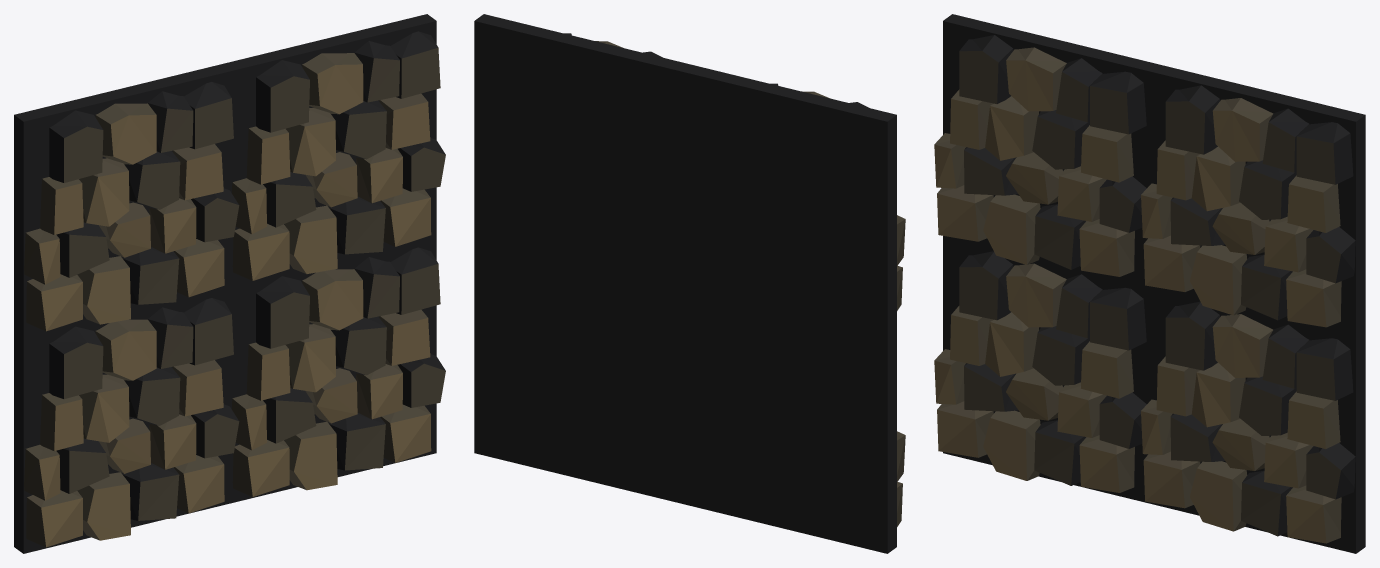
The model's file is ruins_cv_wall_b.obj.
3 views of the same model, side by side, from view 1: azimuth 30°, elevation 25°; view 2: azimuth 150°, elevation 25°; view 3: azimuth 330°, elevation 25° (orthographic).
Visible parts, largest first — view 1: piece; view 2: piece; view 3: piece.
Boxes of the visible parts, <box> form: piece: <box>14,14,445,553</box>; piece: <box>474,14,905,553</box>; piece: <box>934,14,1365,553</box>.
Size of the model in its own units: 5 by 5 by 0.4976.
Materials: 1 (1 with a texture image).
